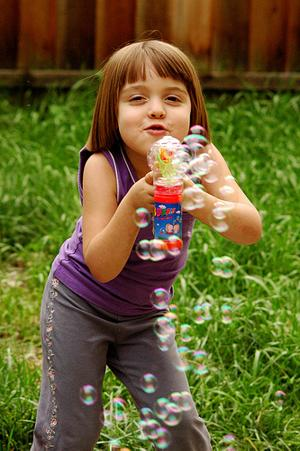person: (29, 34, 263, 448)
